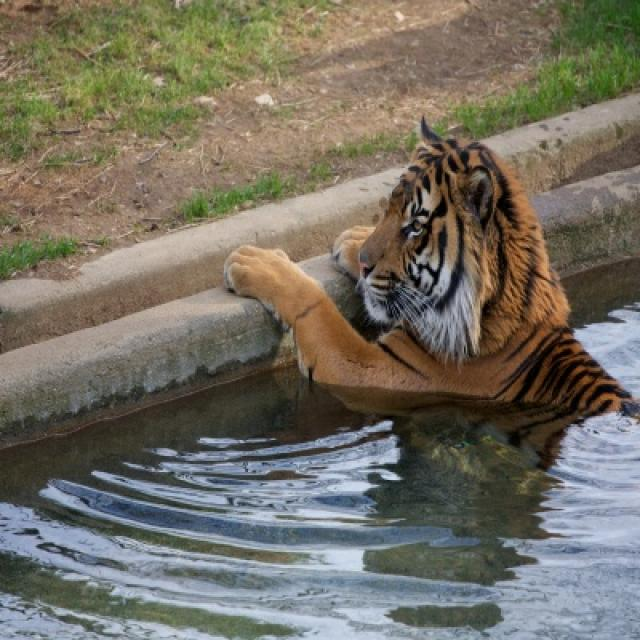Tiger: (210, 110, 638, 416)
